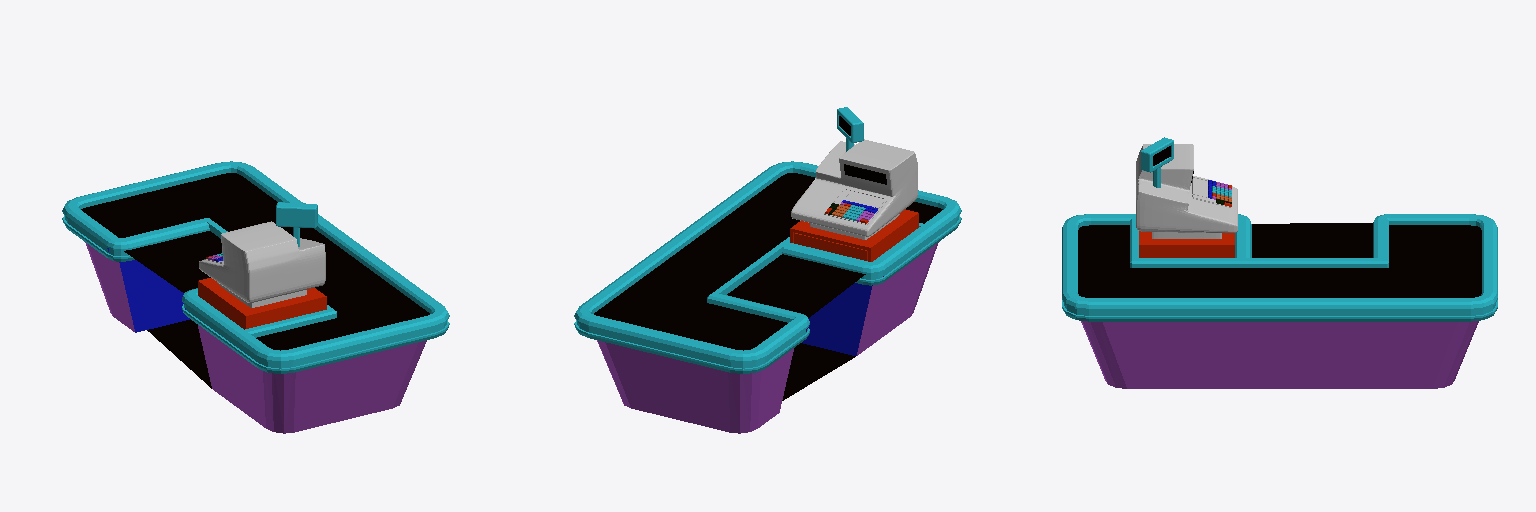
The model's file is Counter_2.obj.
The picture shows the model from 3 angles: view 1: azimuth 30°, elevation 25°; view 2: azimuth 150°, elevation 25°; view 3: azimuth 270°, elevation 25°; orthographic projection.
Visible parts, largest first — view 1: Counter_assamble; view 2: Counter_assamble; view 3: Counter_assamble.
Boxes of the visible parts, <box> form: Counter_assamble: <box>62,161,449,433</box>; Counter_assamble: <box>574,107,961,433</box>; Counter_assamble: <box>1062,137,1497,388</box>.
Size of the model in its own units: 2 by 2.04 by 4.